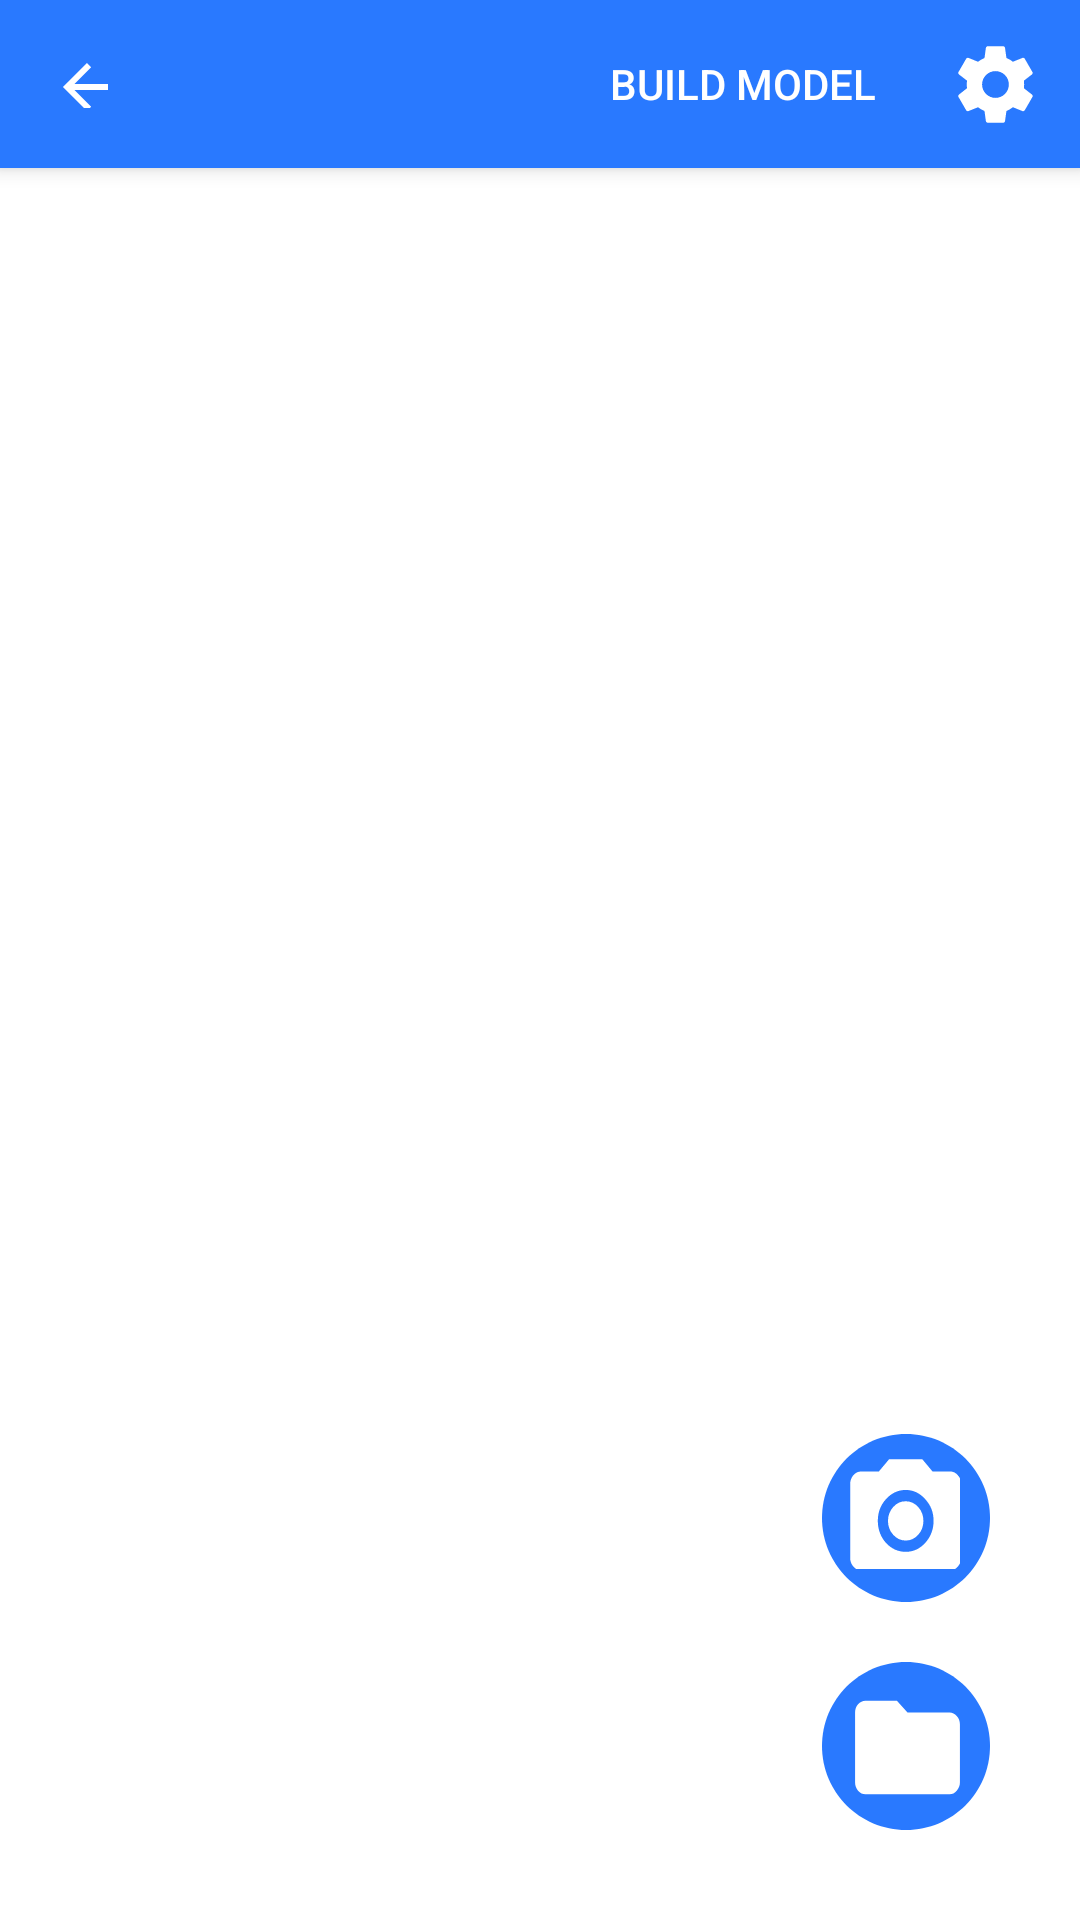

Icon bounding boxes for this 1080 × 1920 phone screenshot, format (x1, y1, x2, y2):
camera: (850, 1459, 960, 1569)
folder: (855, 1700, 960, 1795)
